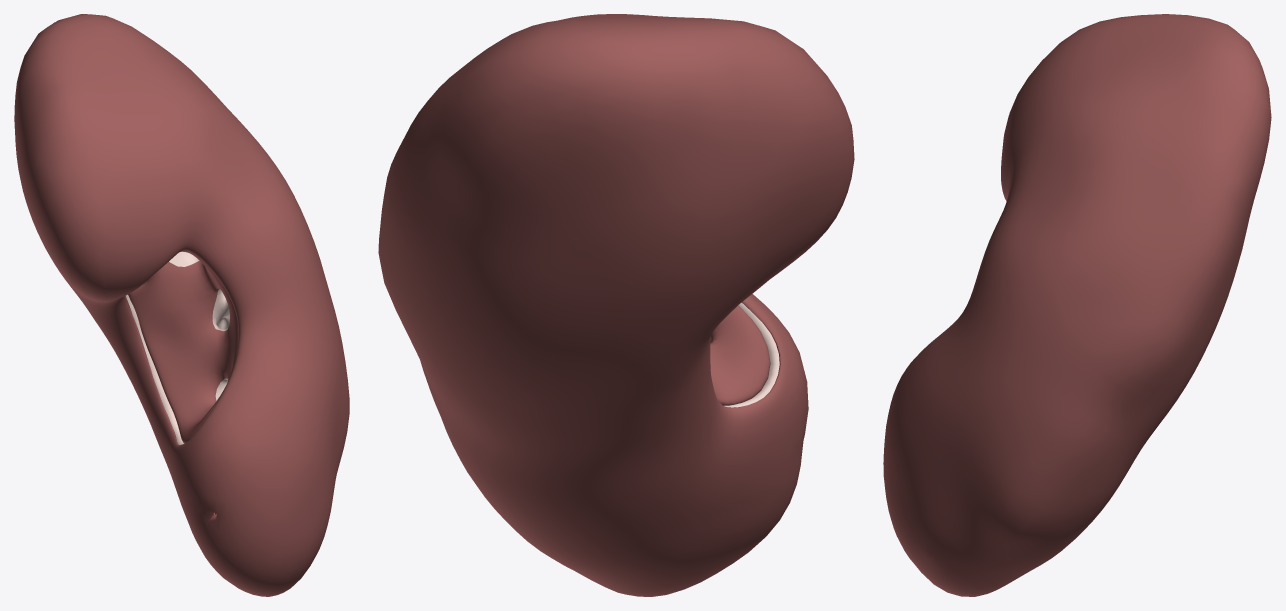
Rendered from kidney-l.glb.
The picture shows the model from 3 angles, left to right: view 1: azimuth 30°, elevation 25°; view 2: azimuth 150°, elevation 25°; view 3: azimuth 270°, elevation 25°; orthographic projection. The views are drawn at different scales.
Visible parts, largest first — view 1: VH_M_kidney_capsule_L, VH_M_hilum_of_kidney_L, VH_M_renal_column_L, VH_M_outer_cortex_of_kidney_L; view 2: VH_M_kidney_capsule_L, VH_M_hilum_of_kidney_L, VH_M_outer_cortex_of_kidney_L; view 3: VH_M_kidney_capsule_L.
Part boxes in pixels (x1=…): VH_M_kidney_capsule_L: x1=14, y1=14, x2=349, y2=596; VH_M_hilum_of_kidney_L: x1=128, y1=250, x2=238, y2=443; VH_M_renal_column_L: x1=169, y1=251, x2=229, y2=400; VH_M_outer_cortex_of_kidney_L: x1=126, y1=294, x2=183, y2=444; VH_M_kidney_capsule_L: x1=378, y1=14, x2=854, y2=596; VH_M_hilum_of_kidney_L: x1=710, y1=305, x2=770, y2=405; VH_M_outer_cortex_of_kidney_L: x1=724, y1=302, x2=779, y2=407; VH_M_kidney_capsule_L: x1=883, y1=14, x2=1271, y2=596.
Bounding box in the file's own units: 0.0709 × 0.1169 × 0.0784.
